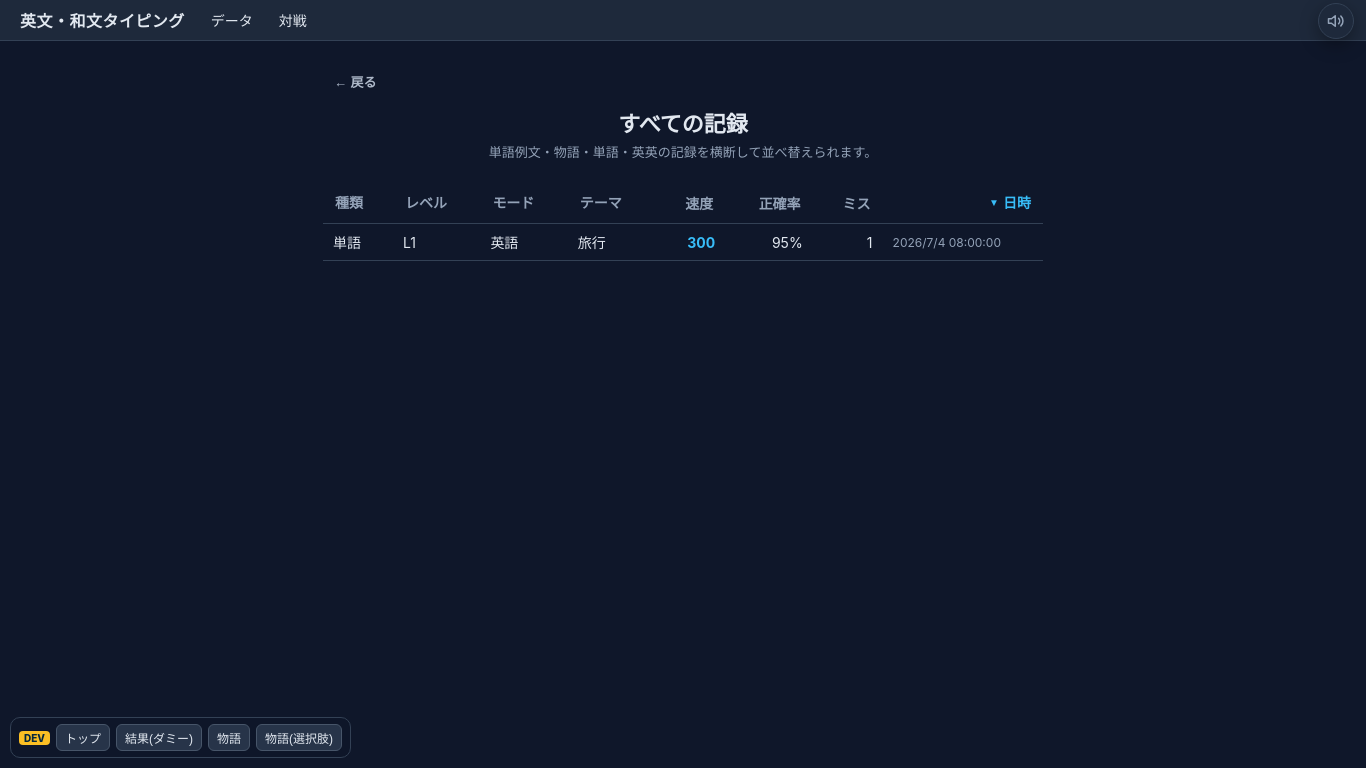
Test: App 記録詳細 URL 配線 (#360) › 一覧の行クリックで detail URL へ pushState されオーバーレイが開く
Click the text "単語".
click(358, 242)  # box [323,224,393,260]
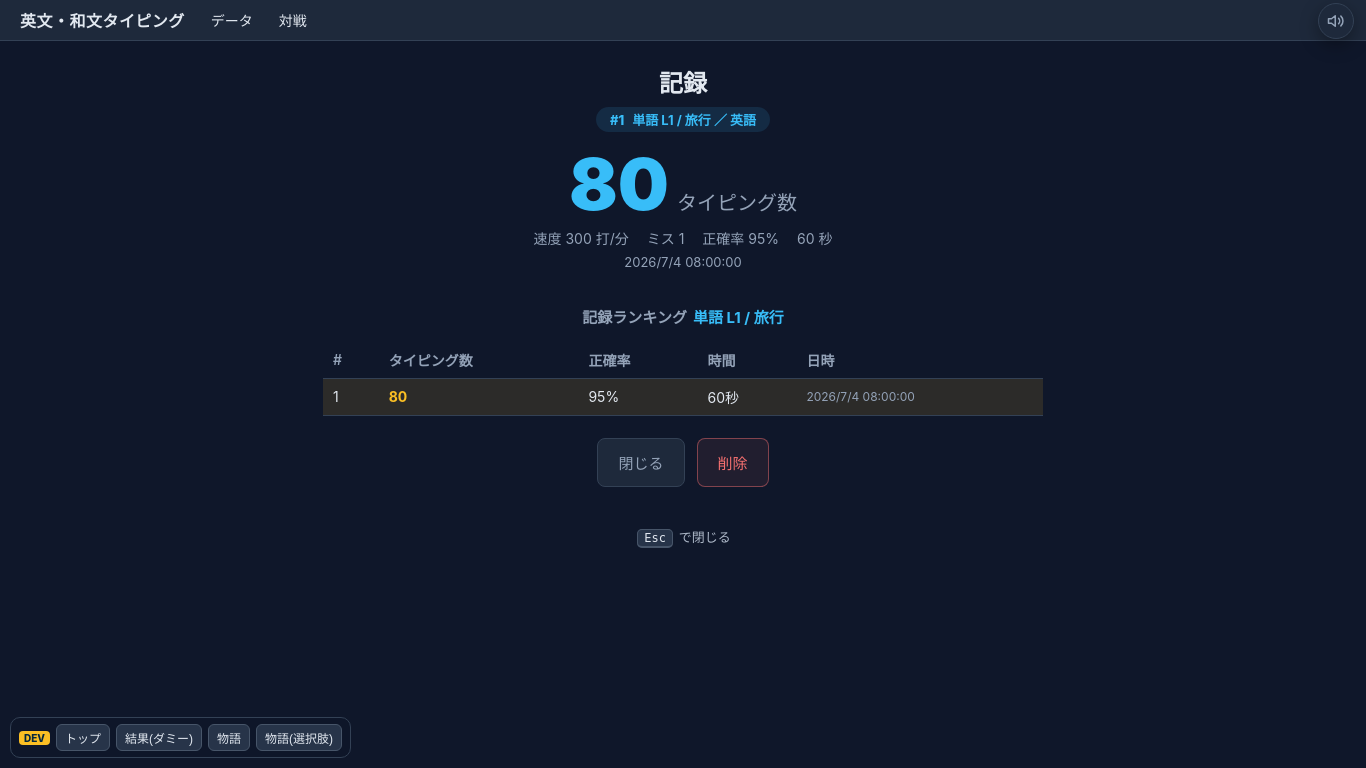
Now the element with class "record-page" is shown
